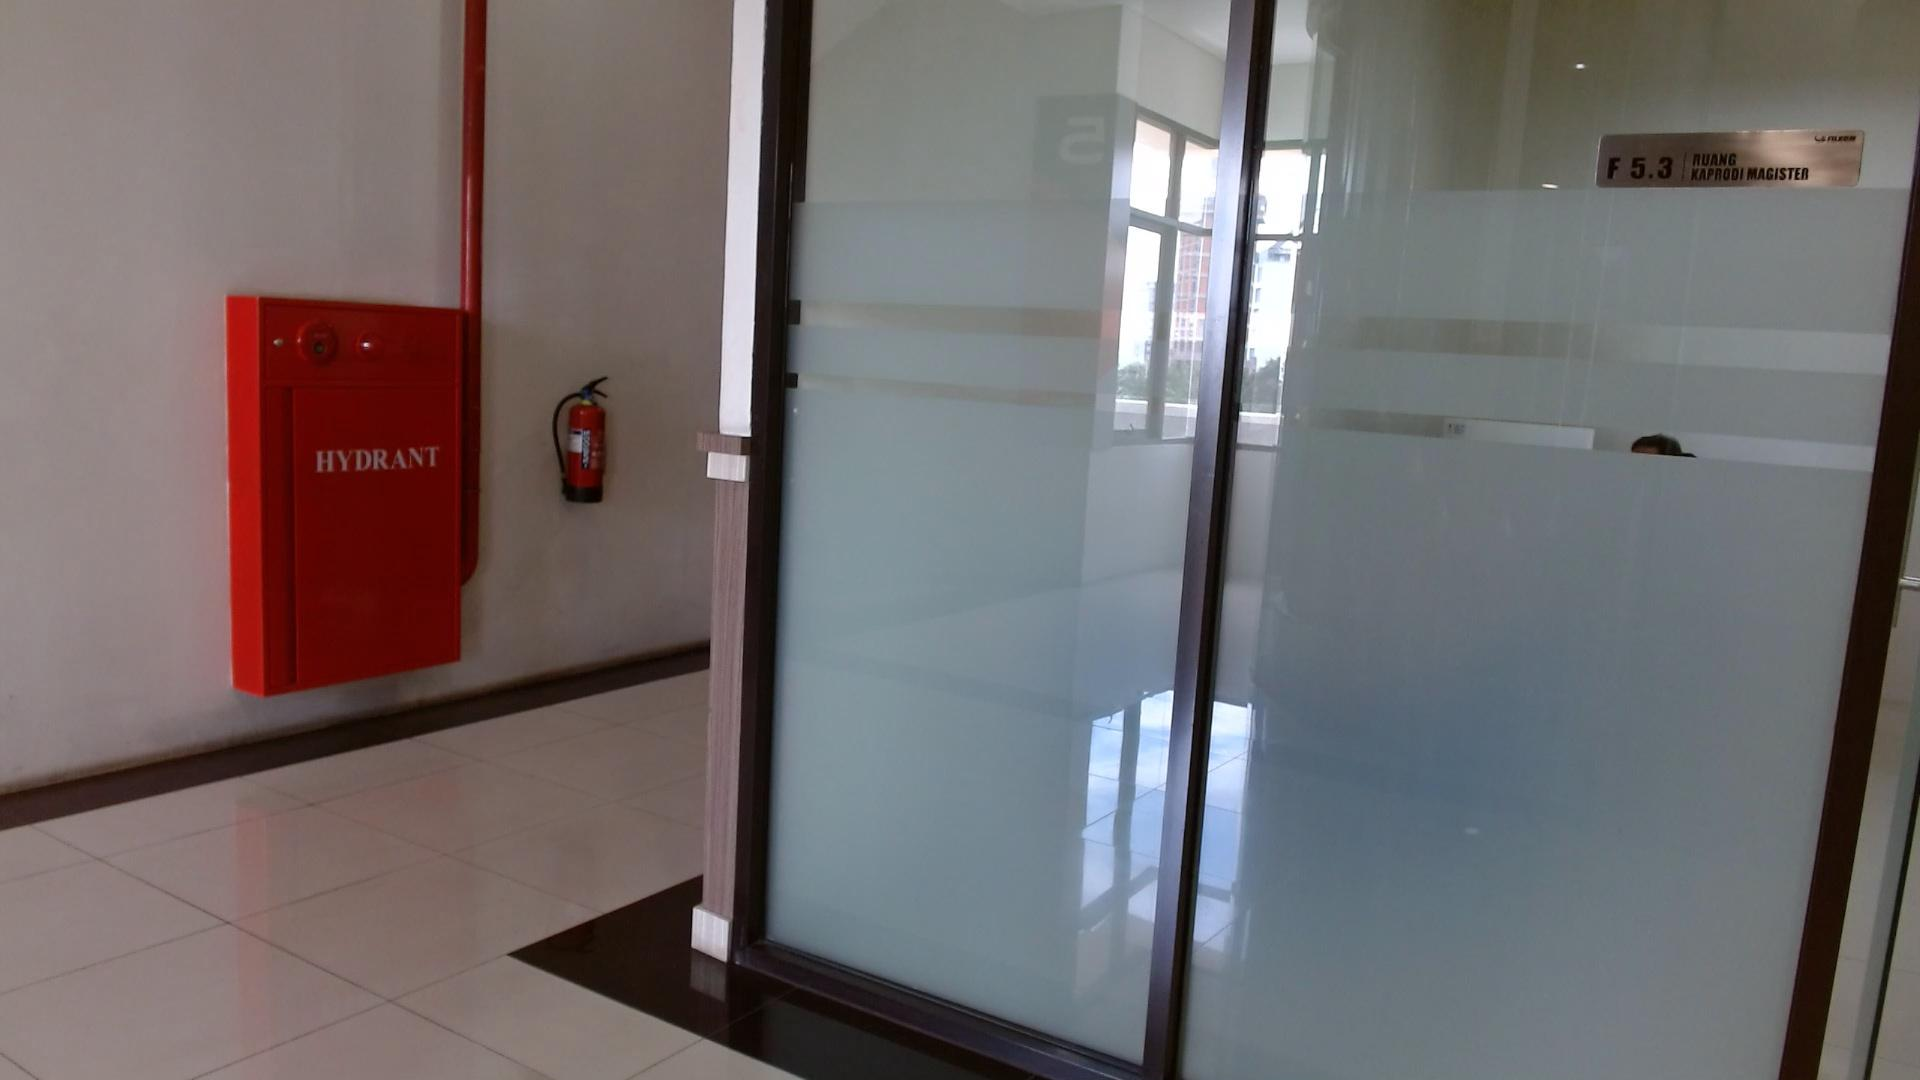plate: (1594, 128, 1867, 190)
